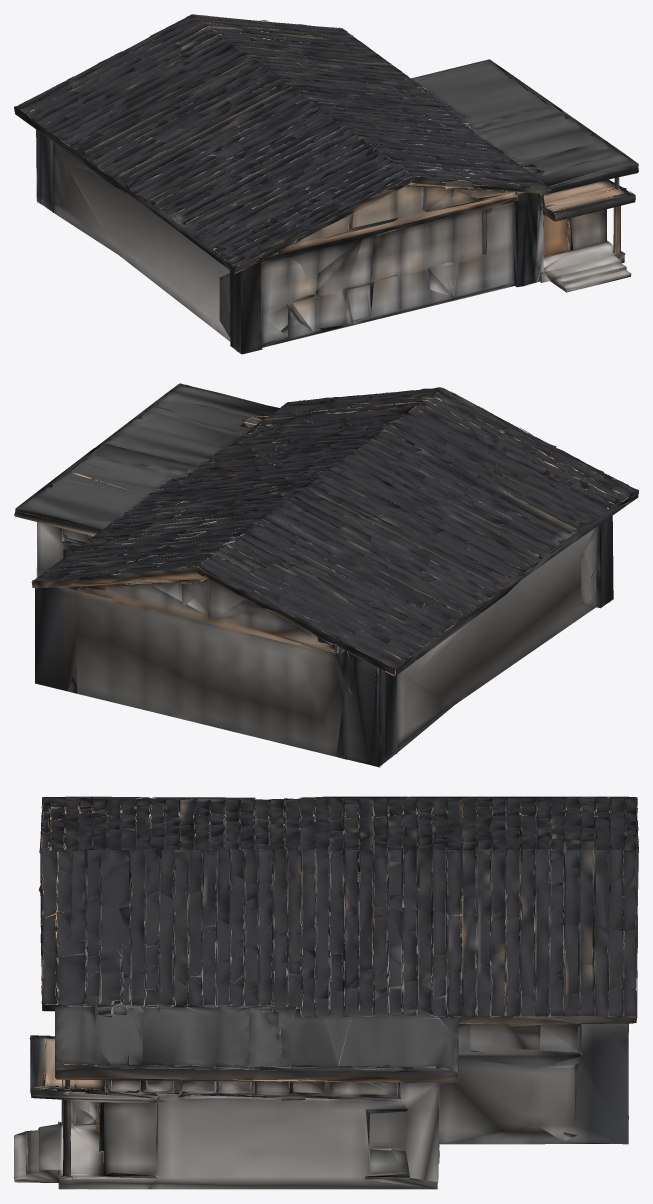
The model's file is hangarhome2.glb.
3 renders of one model, top to bottom at view 1: azimuth 30°, elevation 25°; view 2: azimuth 150°, elevation 25°; view 3: azimuth 270°, elevation 25°, orthographic. The views are drawn at different scales.
Parts seen in each view (by area): view 1: LO.001; view 2: LO.001; view 3: LO.001.
Boxes of the visible parts, x1=… form: LO.001: x1=14, y1=14, x2=638, y2=354; LO.001: x1=14, y1=383, x2=638, y2=767; LO.001: x1=14, y1=796, x2=638, y2=1189.
Bounding box in the file's own units: 30.92 × 10.55 × 30.
Materials: 1 (1 with a texture image).
